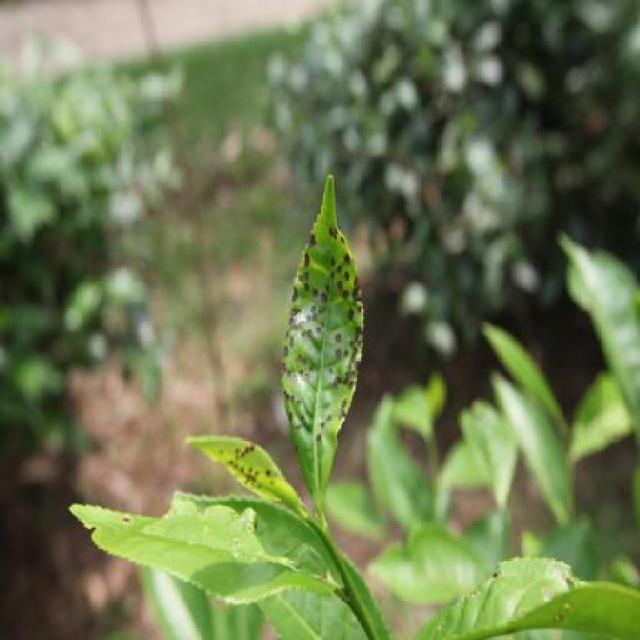Tea Mosquito bug infested leaf: (278, 157, 394, 488), (197, 418, 312, 511)
